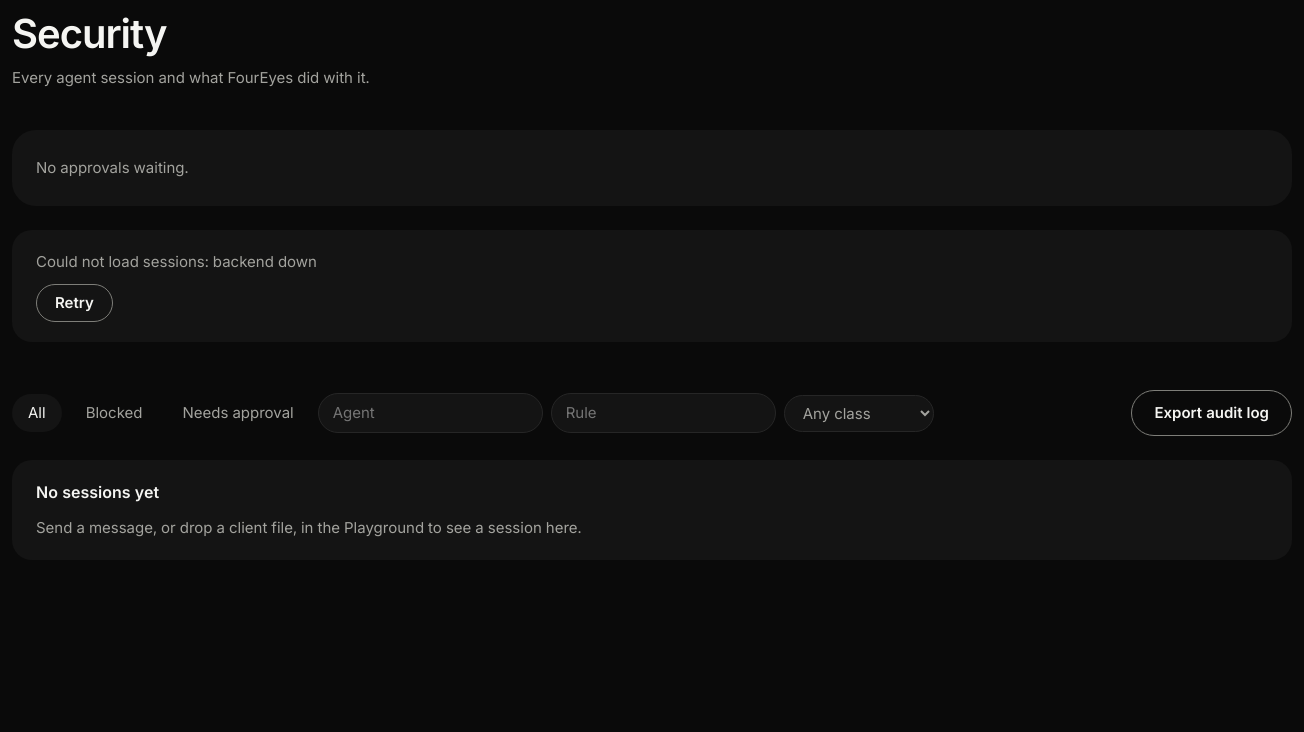
Scenario: Security view errors › offers Retry when the sessions cannot be loaded and recovers
Expected: the message shows "Could not load sessions: backend down", [12, 230, 1292, 342]
Click the button "Retry". click: x=74, y=303
box: [36, 284, 113, 322]
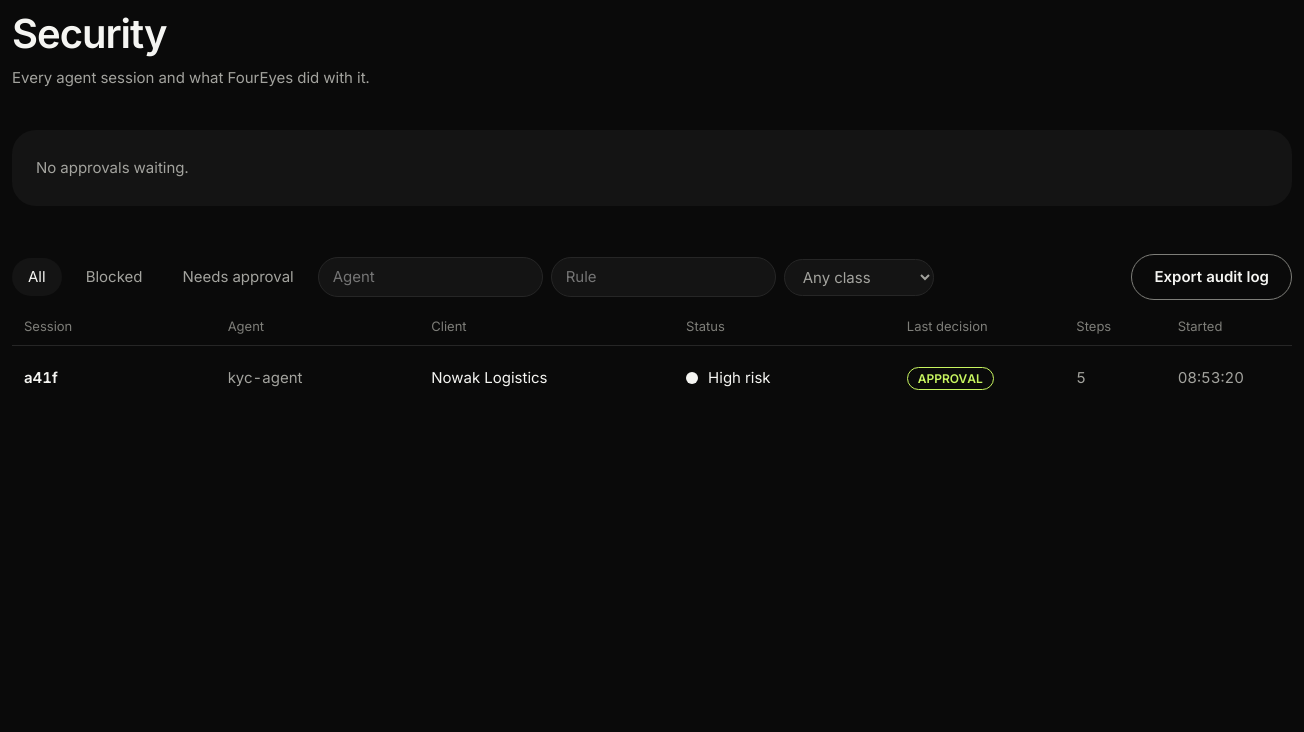
Expected: the button "a41f" is shown, [24, 366, 212, 390]
